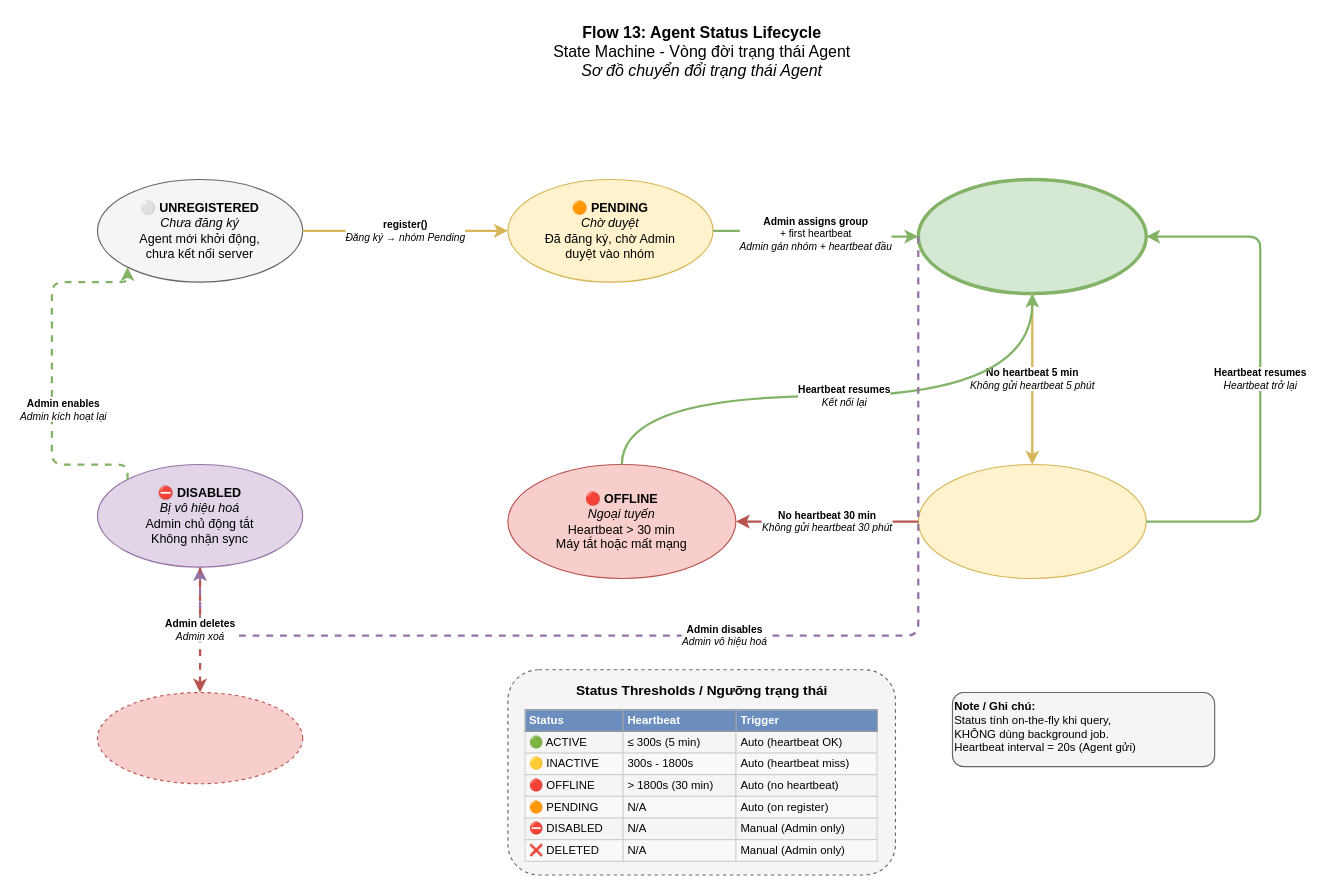
This 1326x895 diagram has some shape labels left out. Each missing label, with the centre of its shape:
"❌ DELETED Đã xoá Bản ghi bị xoá khỏi DB" belongs at point 199,737.
"🟡 INACTIVE Không hoạt động Heartbeat 5-30 min Có thể mất kết nối tạm" belongs at point 1031,521.
"🟢 ACTIVE Đang hoạt động Heartbeat ≤ 5 min Whitelist sync OK" belongs at point 1031,236.
